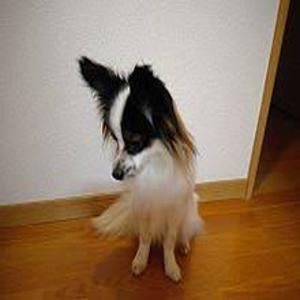yell: (76, 55, 201, 281)
